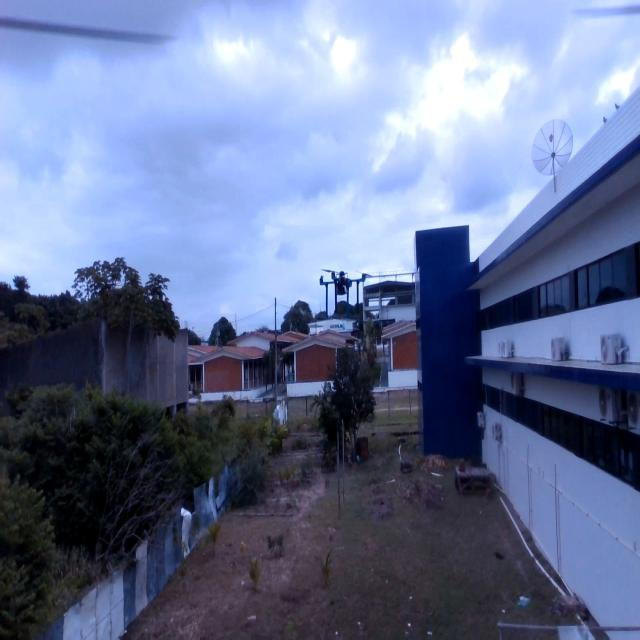-uav-: (311, 253, 375, 324)
